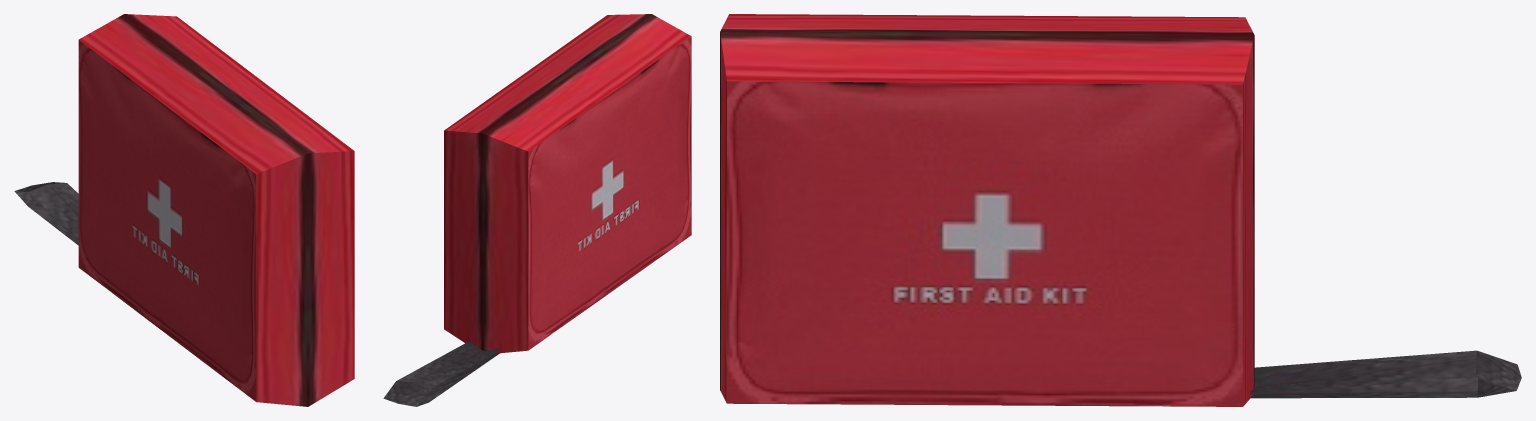
The model's file is medkit_closed.fbx.
The picture shows the model from 3 angles, left to right: view 1: azimuth 30°, elevation 25°; view 2: azimuth 150°, elevation 25°; view 3: azimuth 270°, elevation 25°; orthographic projection. The views are drawn at different scales.
Parts seen in each view (by area): view 1: Med_Kit_Closed; view 2: Med_Kit_Closed; view 3: Med_Kit_Closed.
Part boxes in pixels (left/top/right/bottom): Med_Kit_Closed: left=14, top=14, right=354, bottom=406; Med_Kit_Closed: left=383, top=14, right=691, bottom=406; Med_Kit_Closed: left=720, top=14, right=1521, bottom=406.
Bounding box in the file's own units: 110 × 260 × 526.
Materials: 1 (1 with a texture image).
